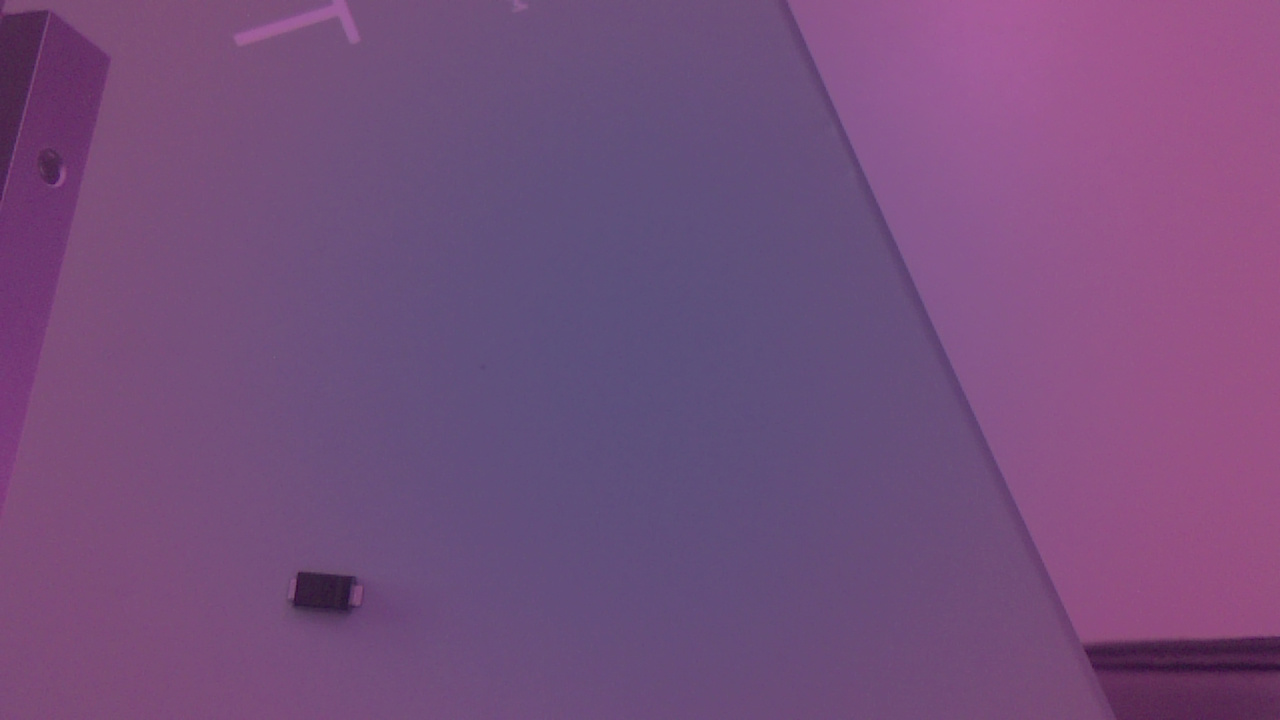Diode: (284, 566, 379, 624)
